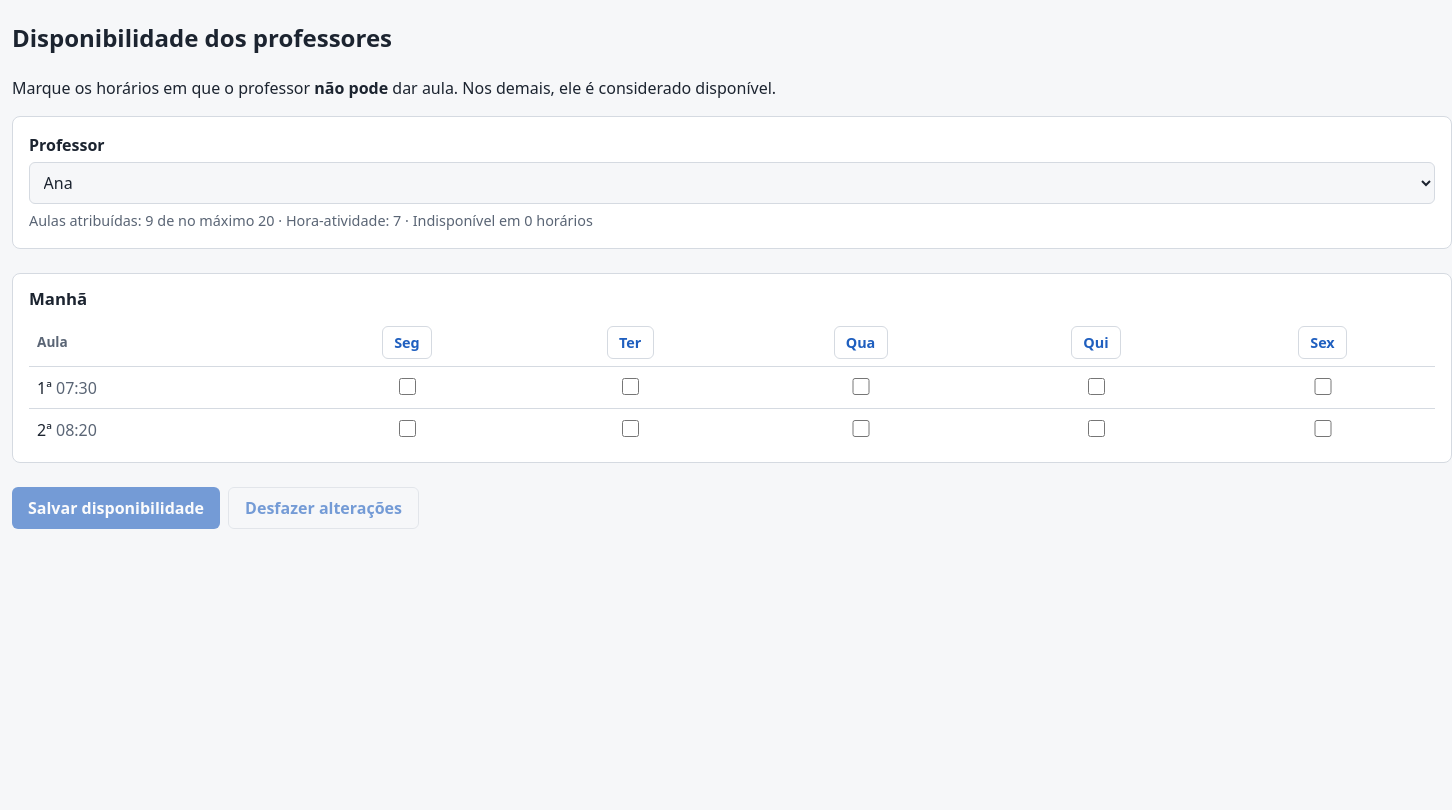
Test case: AvailabilityPage › mostra o erro e recarrega quando o professor foi alterado em outra tela
Click the checkbox named "Indisponível na segunda, 1ª aula da Manhã (07:30–08:20)": [407, 386] box [399,378,416,395]
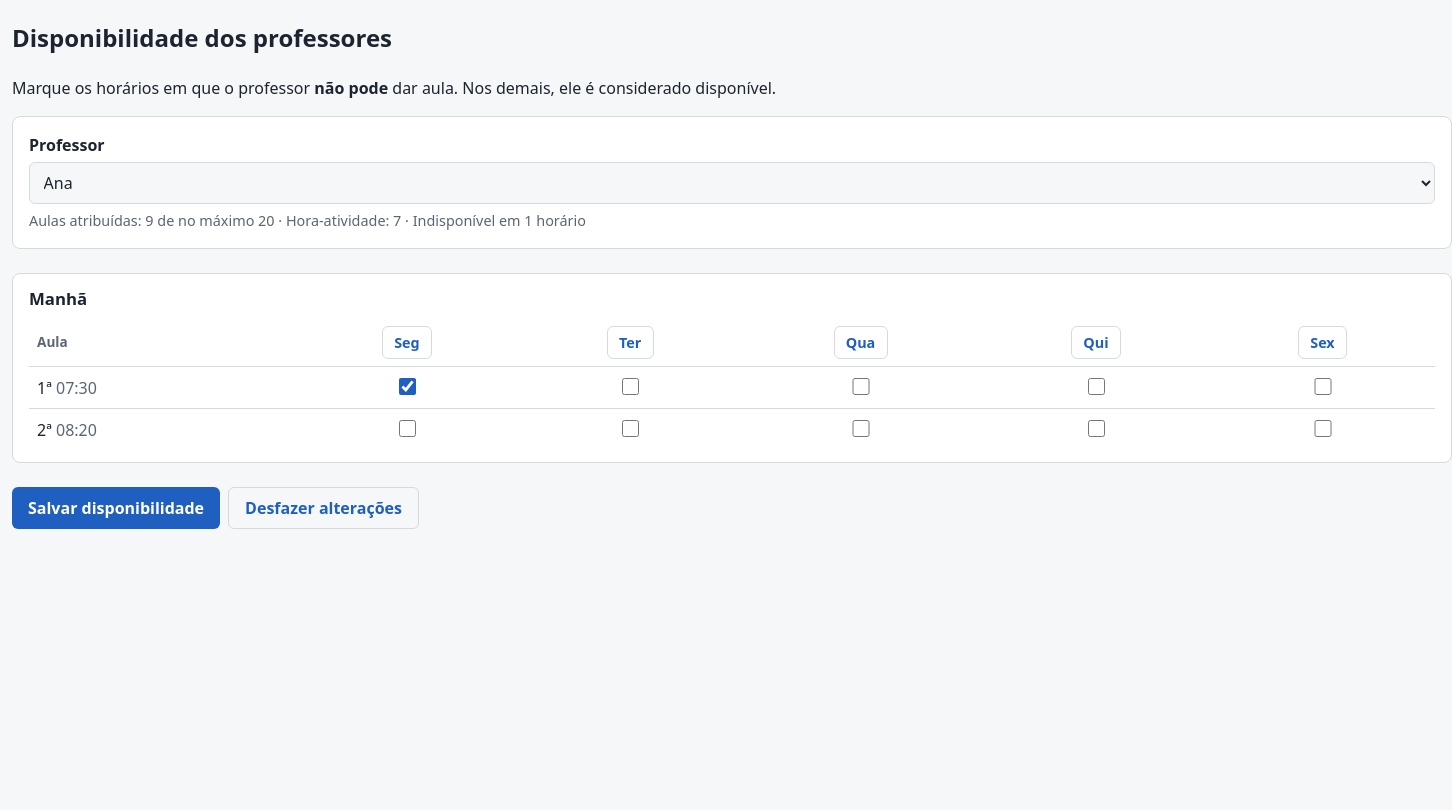
Click the button "Salvar disponibilidade": [116, 508] box [12,487,220,529]
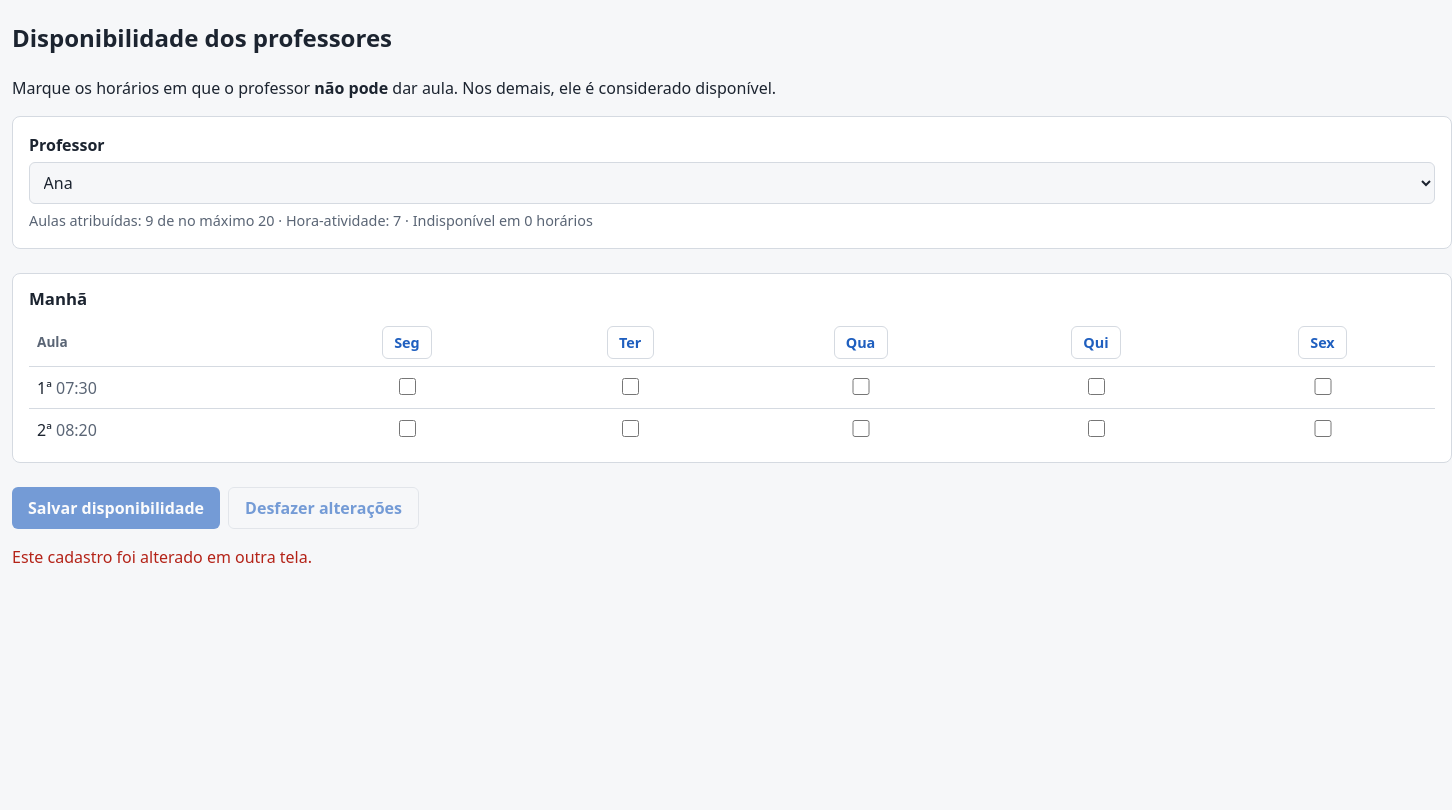
Expected: the message "Este cadastro foi alterado em outra tela." is shown, [12,546,312,568]
